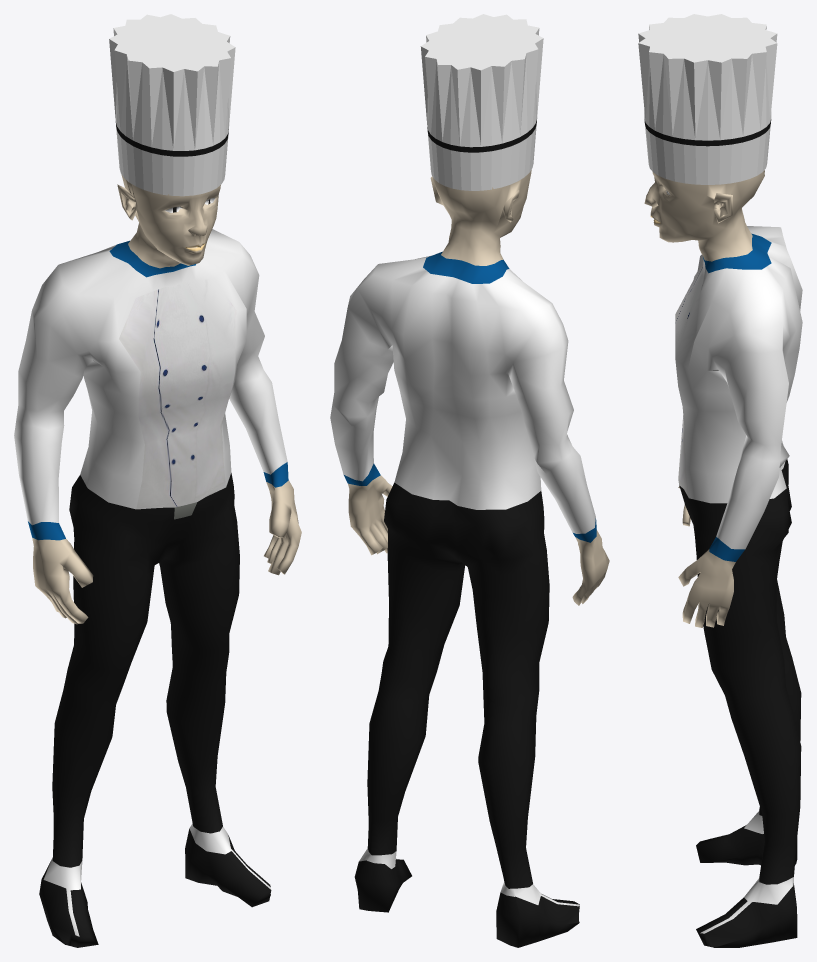
Rendered from chef.obj.
The picture shows the model from 3 angles, left to right: view 1: azimuth 30°, elevation 25°; view 2: azimuth 150°, elevation 25°; view 3: azimuth 270°, elevation 25°; orthographic projection. The views are drawn at different scales.
Parts seen in each view (by area): view 1: body_Plane, Cilindro.022_Cilindro.008; view 2: body_Plane, Cilindro.022_Cilindro.008; view 3: body_Plane, Cilindro.022_Cilindro.008.
Boxes of the visible parts, x1,y1,x2,y2 form: body_Plane: (14, 174, 301, 947); Cilindro.022_Cilindro.008: (109, 14, 235, 196); body_Plane: (330, 170, 609, 947); Cilindro.022_Cilindro.008: (420, 14, 543, 190); body_Plane: (644, 170, 802, 947); Cilindro.022_Cilindro.008: (638, 14, 777, 184).
Bounding box in the file's own units: 0.6 × 1.98 × 0.3426.
